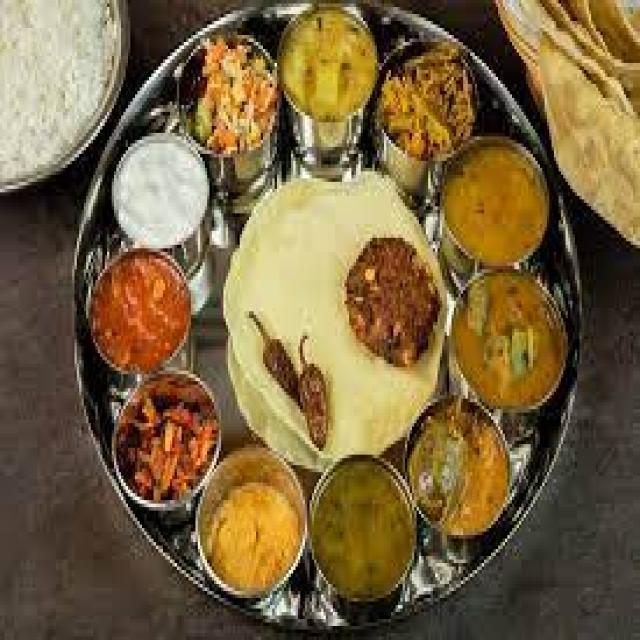curd: (106, 139, 209, 254)
dal: (433, 131, 560, 273)
papad: (215, 191, 385, 443)
sambar-rasam: (437, 134, 556, 273)
veg-fry: (445, 262, 576, 428)
